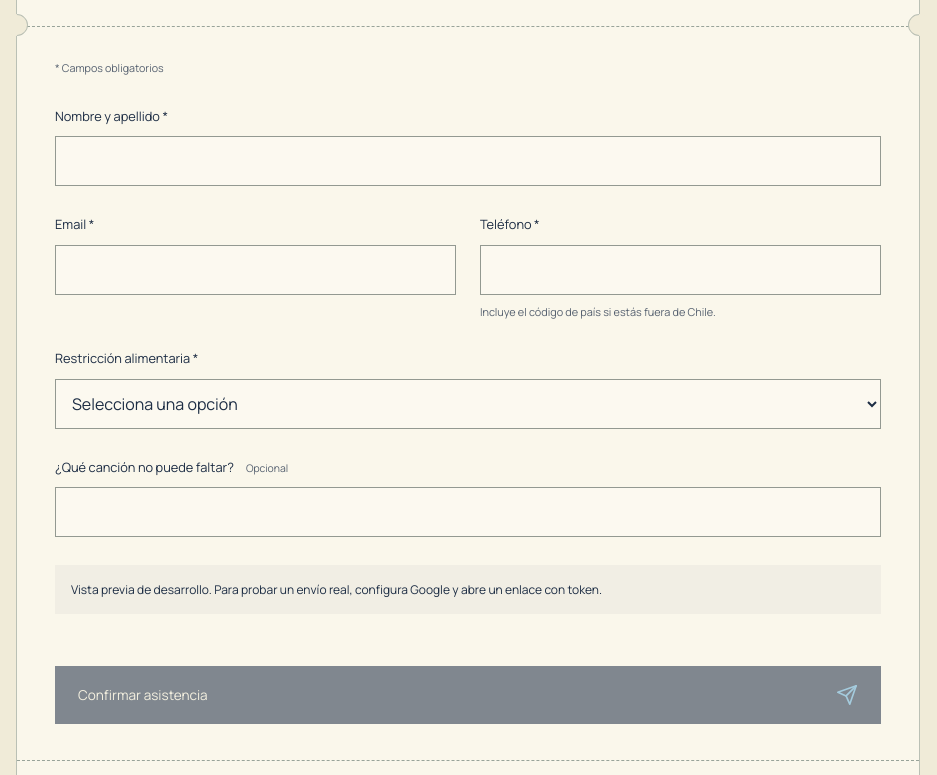
rendering all invitation variants › renders dietary detail only for allergy/other
The image size is (937, 775).
(page scrolled)
Select "Alergia alimentaria" in the dropdown labelled "Restricción alimentaria *" at [468, 404], box top-left (55, 379), bottom-right (881, 429)
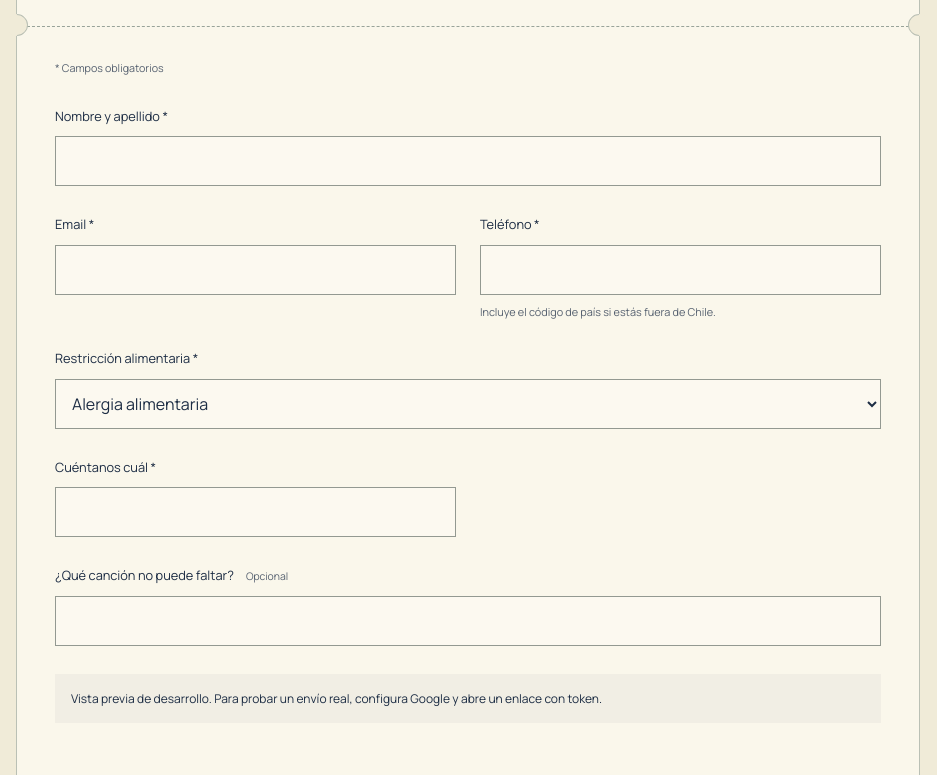
Check: the field labelled "Cuéntanos cuál *" is shown, box top-left (55, 487), bottom-right (456, 537)
Select "Sin restricciones" in the dropdown labelled "Restricción alimentaria *" at [468, 404], box top-left (55, 379), bottom-right (881, 429)
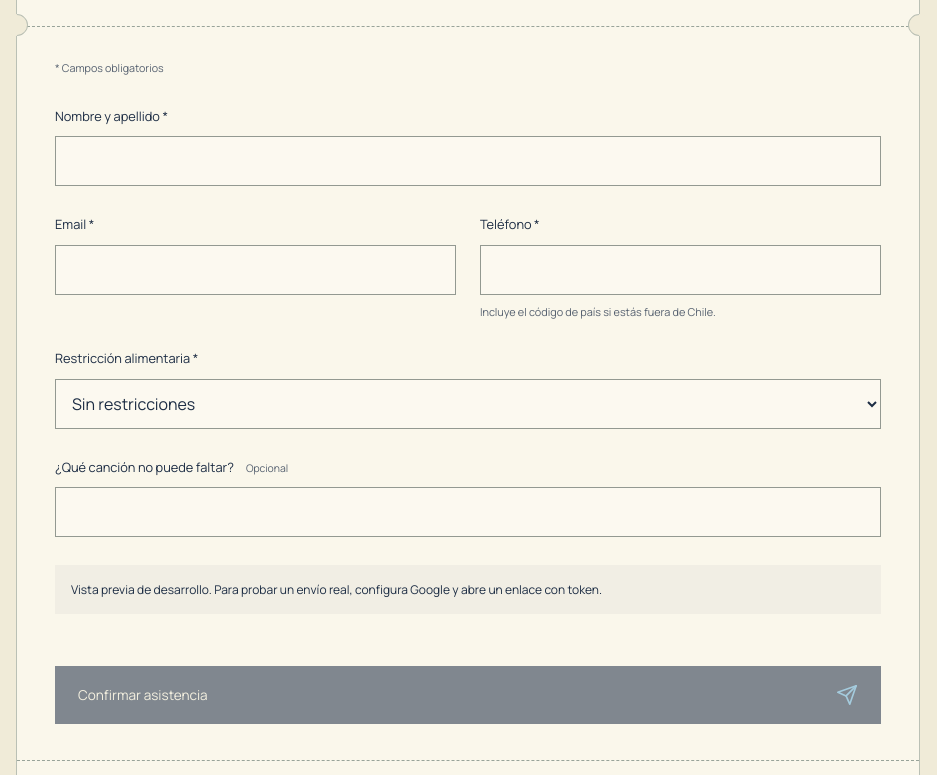
Check: the label labelled "Cuéntanos cuál *" is gone
